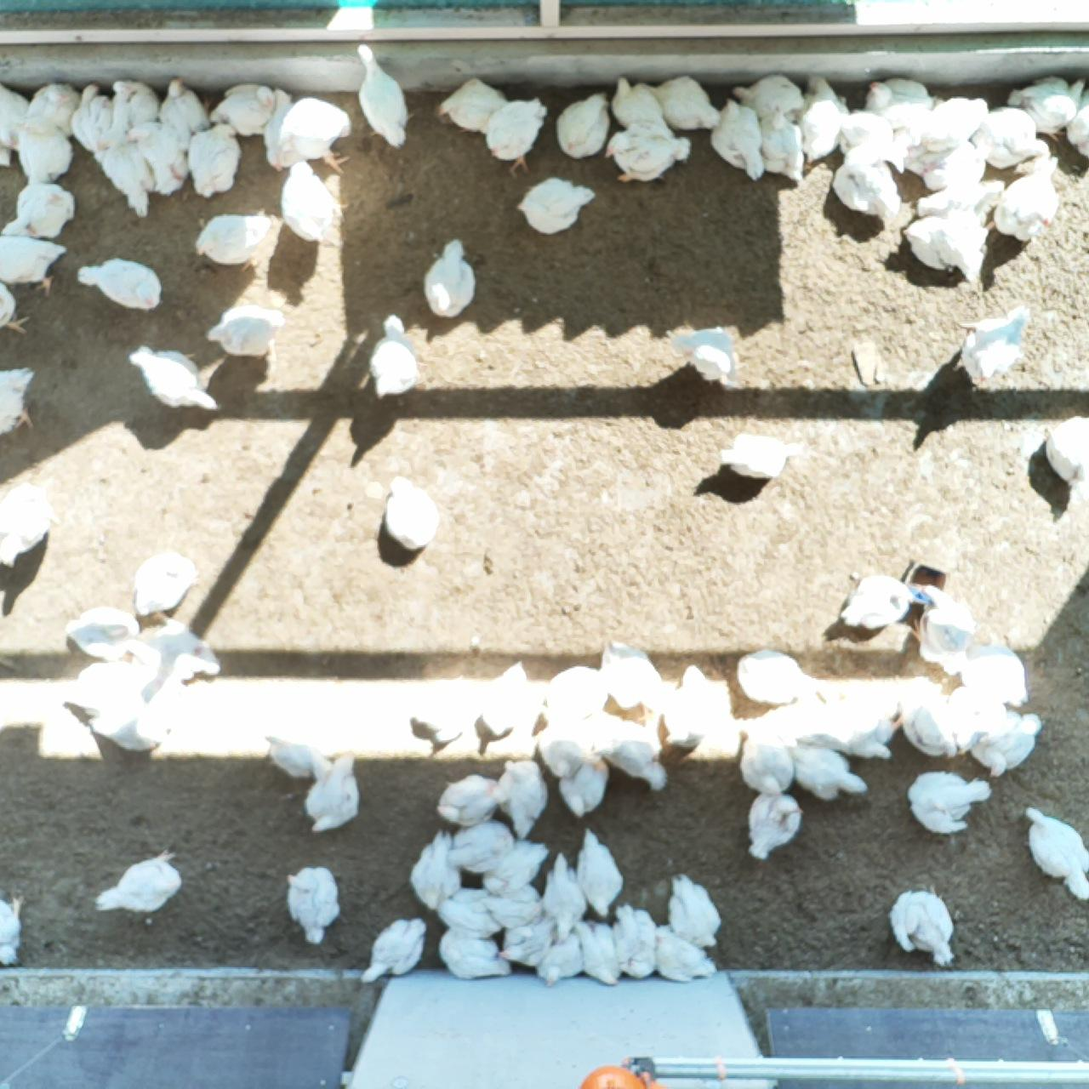chicken: (1018, 800, 1089, 902), (355, 42, 418, 153), (130, 609, 222, 684), (955, 302, 1028, 394), (601, 121, 701, 188), (888, 889, 965, 975), (433, 67, 524, 139), (589, 707, 667, 791), (274, 90, 353, 171), (783, 71, 850, 164), (1003, 72, 1089, 144), (93, 849, 186, 914), (278, 157, 346, 245), (707, 92, 770, 186), (968, 705, 1049, 778), (479, 92, 550, 175), (130, 342, 215, 410), (915, 582, 977, 675), (907, 771, 995, 836), (665, 324, 749, 392), (965, 105, 1054, 169), (780, 737, 869, 801), (992, 163, 1065, 241), (0, 218, 72, 297), (658, 661, 719, 754), (366, 309, 426, 403), (837, 572, 925, 636), (74, 255, 165, 316), (515, 174, 603, 237), (380, 473, 450, 552), (955, 639, 1031, 710), (831, 147, 904, 220), (356, 915, 429, 987), (97, 127, 154, 219), (422, 233, 482, 320), (0, 479, 58, 569), (304, 747, 364, 834), (128, 118, 191, 198), (899, 676, 956, 763), (813, 700, 894, 761), (637, 75, 725, 131), (130, 548, 201, 617), (435, 921, 514, 983), (408, 674, 475, 747), (546, 88, 612, 162), (194, 211, 275, 270), (597, 640, 664, 711), (539, 849, 588, 946), (913, 173, 1012, 221), (81, 697, 172, 749), (187, 117, 244, 200), (496, 756, 549, 845), (604, 901, 660, 985), (661, 872, 721, 950), (727, 72, 811, 127), (931, 207, 988, 288), (205, 81, 278, 144), (715, 428, 805, 479), (284, 865, 341, 945), (64, 602, 137, 664), (207, 303, 289, 358), (751, 106, 807, 186), (576, 827, 625, 918), (16, 112, 74, 188), (948, 687, 1010, 758), (877, 96, 932, 176), (745, 790, 806, 862), (412, 829, 463, 915), (477, 657, 530, 739), (647, 922, 716, 984), (132, 668, 195, 735), (737, 647, 809, 705), (1036, 411, 1089, 489), (18, 78, 83, 140), (913, 140, 986, 195), (68, 653, 145, 705), (739, 725, 792, 800), (435, 771, 504, 828), (480, 836, 549, 893), (918, 96, 989, 151), (607, 76, 673, 135), (537, 665, 609, 719), (259, 722, 328, 778), (477, 878, 547, 933), (435, 885, 505, 940), (537, 711, 591, 781), (449, 821, 515, 878), (18, 179, 82, 237), (157, 78, 213, 144), (834, 110, 894, 170), (109, 77, 161, 146), (557, 750, 610, 817), (572, 917, 622, 987), (500, 908, 559, 967), (259, 85, 298, 174), (74, 80, 114, 164), (903, 215, 956, 274), (534, 929, 587, 988), (861, 76, 939, 116), (0, 362, 37, 434), (0, 77, 31, 155), (0, 887, 27, 967), (0, 279, 35, 337), (1063, 85, 1089, 163)
